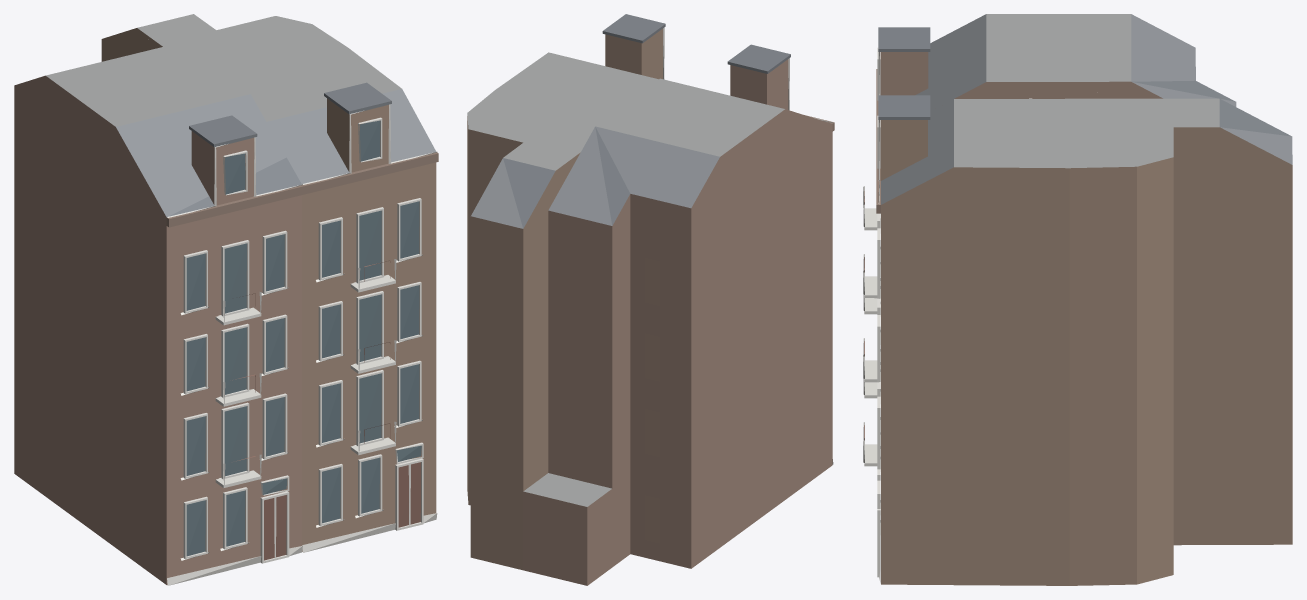
The model's file is chunk-face-helmers-23-57-r3.lod2.glb.
3 views of the same model, side by side, from view 1: azimuth 30°, elevation 25°; view 2: azimuth 150°, elevation 25°; view 3: azimuth 270°, elevation 25° (orthographic). The views are drawn at different scales.
Parts seen in each view (by area): view 1: lod2; view 2: lod2; view 3: lod2.
Part boxes in pixels (left/top/right/bottom): lod2: left=14, top=14, right=438, bottom=585; lod2: left=467, top=14, right=834, bottom=585; lod2: left=863, top=14, right=1292, bottom=585.
Size of the model in its own units: 11.88 by 17.94 by 15.69.
